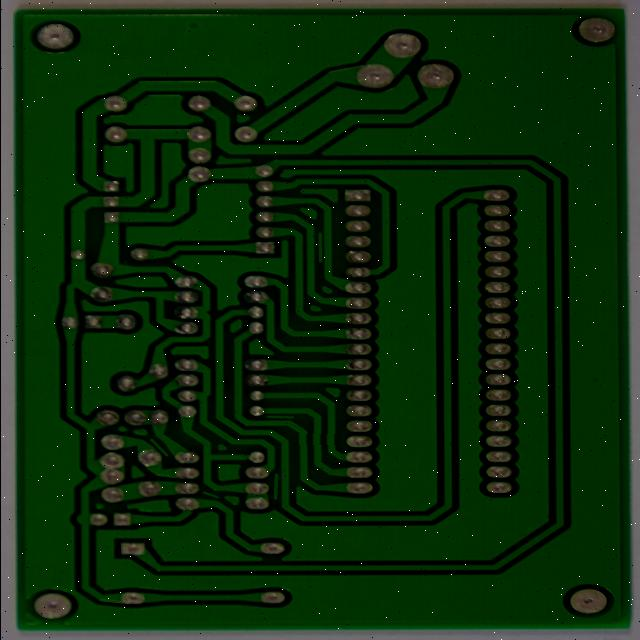spurious_copper: (348, 238, 371, 279), (296, 493, 322, 529), (164, 460, 192, 483), (291, 434, 336, 445), (219, 514, 251, 526)
